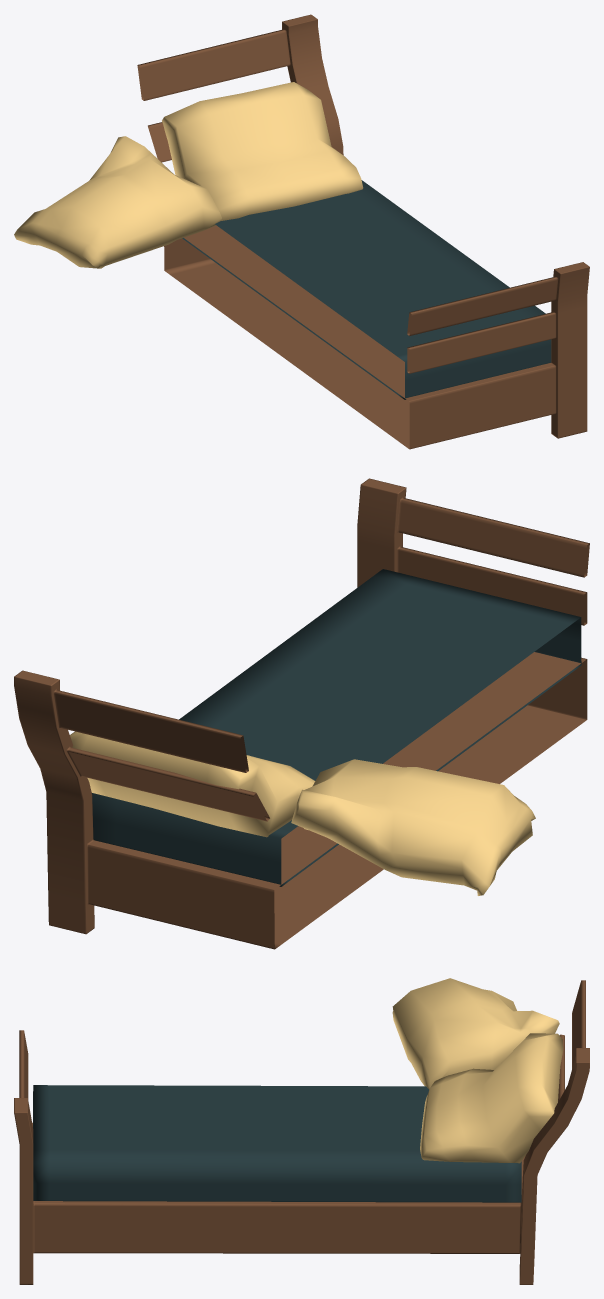
The model's file is bed.glb.
The picture shows the model from 3 angles, top to bottom: view 1: azimuth 30°, elevation 25°; view 2: azimuth 150°, elevation 25°; view 3: azimuth 270°, elevation 25°; orthographic projection. The views are drawn at different scales.
Parts seen in each view (by area): view 1: bed, matress, pillow right, pillow left; view 2: bed, matress, pillow left, pillow right; view 3: matress, bed, pillow right, pillow left.
Part boxes in pixels (x1,y1,x2,y2): bed: (137, 14, 589, 449); matress: (182, 180, 551, 399); pillow right: (162, 82, 363, 220); pillow left: (14, 136, 221, 268); bed: (14, 478, 589, 949); matress: (92, 569, 581, 886); pillow left: (291, 759, 535, 895); pillow right: (70, 731, 315, 837); matress: (33, 1085, 521, 1202); bed: (14, 980, 589, 1284); pillow right: (420, 1033, 563, 1163); pillow left: (392, 978, 559, 1089).
Size of the model in its own units: 2.9 by 1.78 by 4.17.
